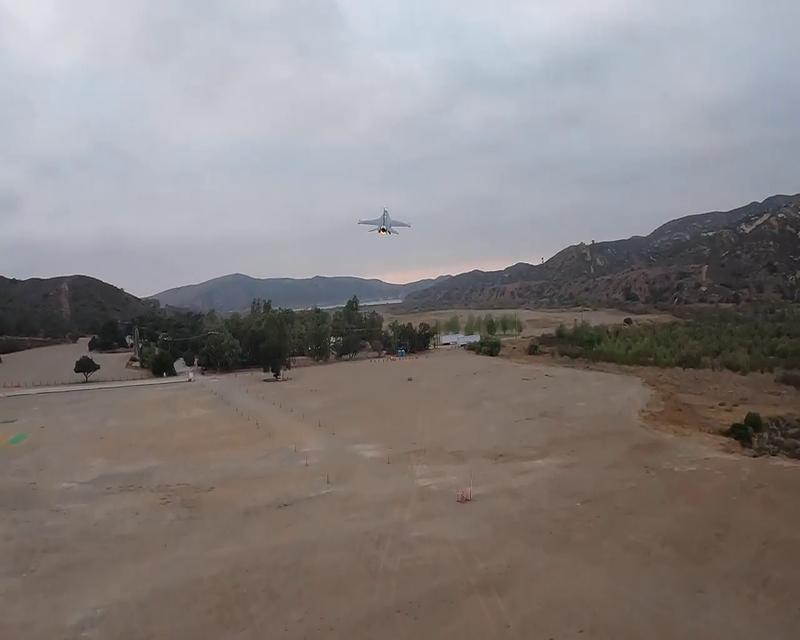UAV: (357, 205, 411, 236)
